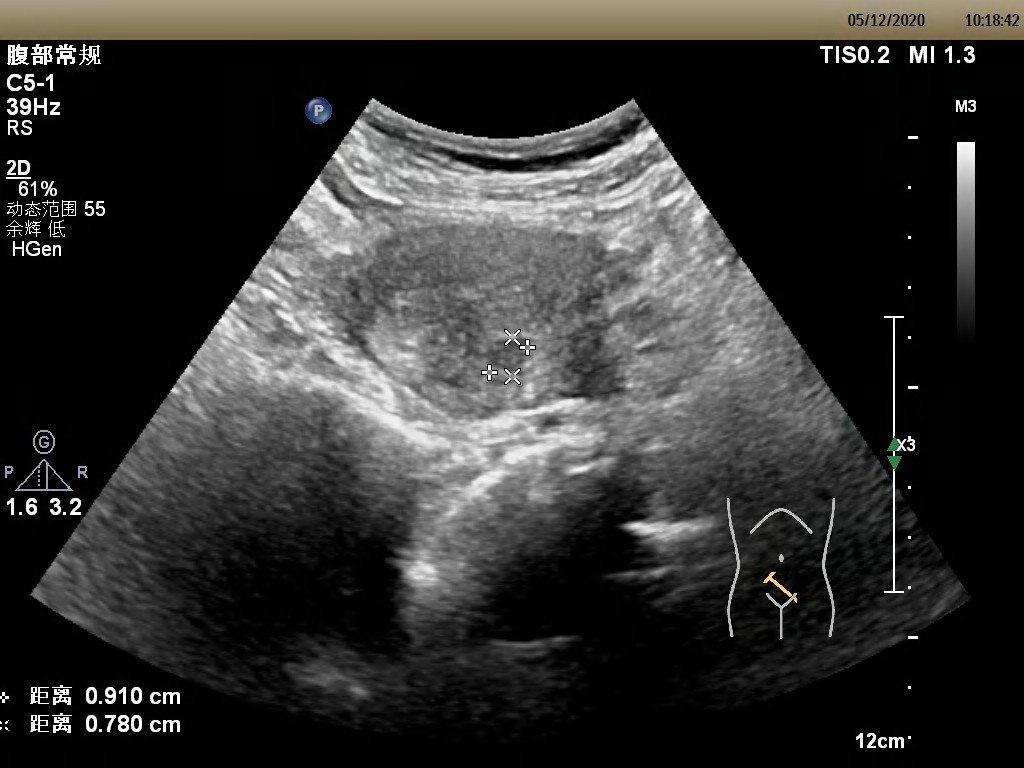肌瘤: (494, 343, 529, 370)
